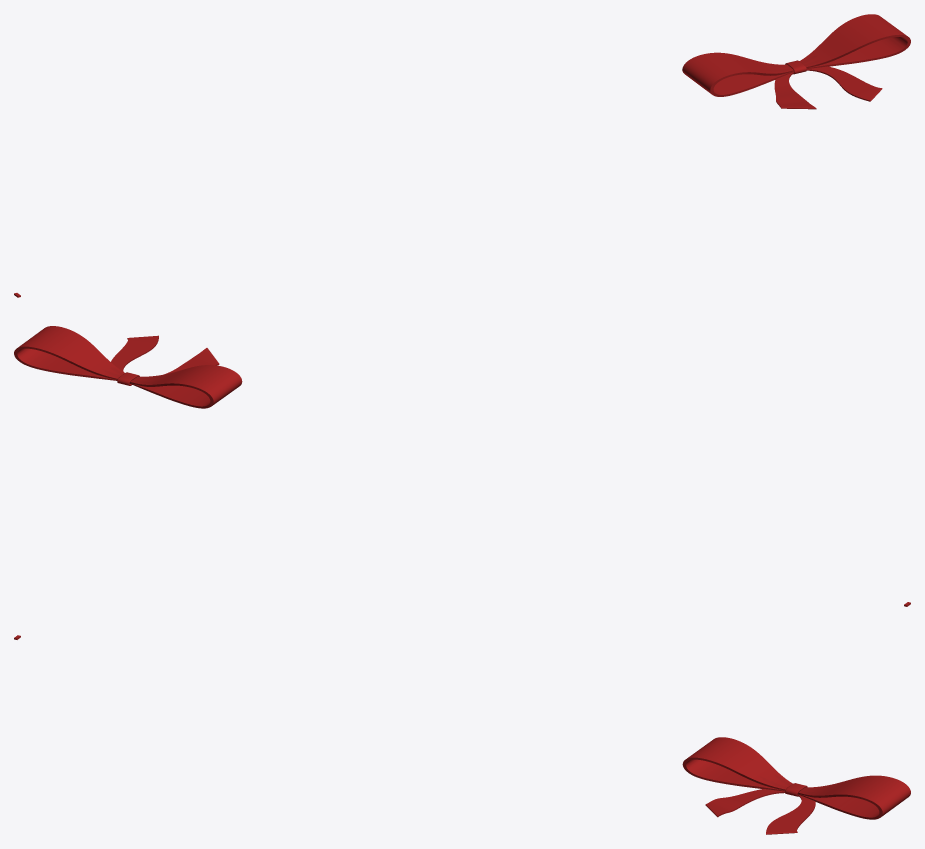
The model's file is Nudo_Cinta.gltf.
The picture shows the model from 3 angles, top to bottom: view 1: azimuth 30°, elevation 25°; view 2: azimuth 150°, elevation 25°; view 3: azimuth 330°, elevation 25°; orthographic projection.
Visible parts, largest first — view 1: Nudo; view 2: Nudo; view 3: Nudo.
Boxes of the visible parts, x1,y1,x2,y2 form: Nudo: [682, 14, 910, 109]; Nudo: [14, 326, 242, 408]; Nudo: [682, 737, 910, 834].
Size of the model in its own units: 9.74 by 0.6284 by 1.28.
1 material, 1 textured.
